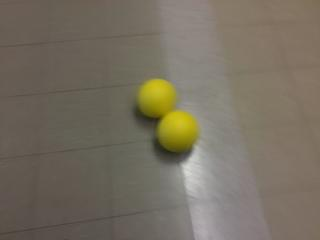power_cell: (154, 109, 201, 154), (135, 77, 178, 120)
